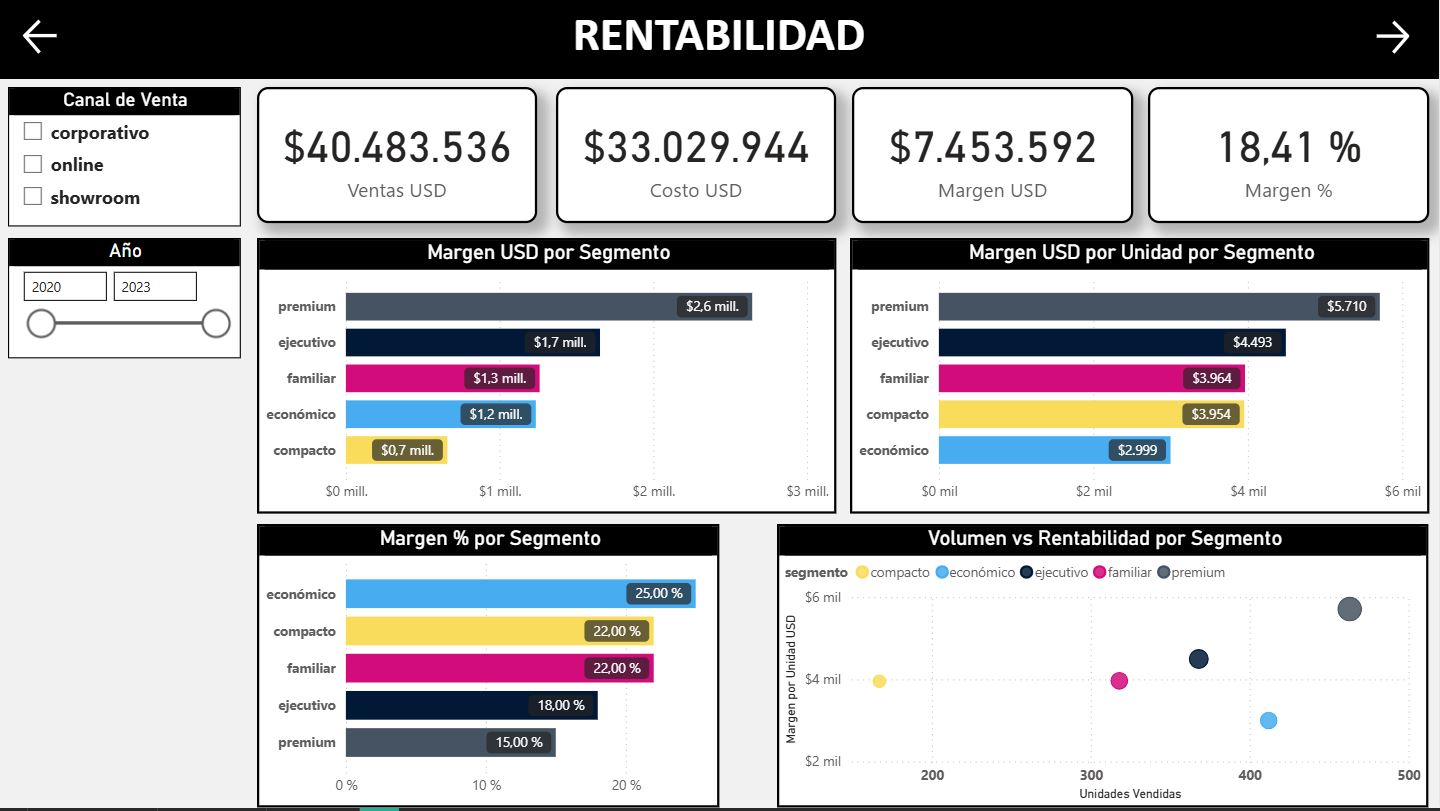

The dashboard page shown, as its layout file describes it:
{"tool":"powerbi","page":{"name":"Rentabilidad","canvas":[1280,720],"ordinal":2},"visuals":[{"type":"card","fields":{"Values":["_Medidas.Ventas USD"]},"box":[229.1,78.9,249.3,121.3],"z":0},{"type":"card","fields":{"Values":["_Medidas.Costo USD"]},"box":[494.7,78.9,249.3,121.3],"z":1000},{"type":"card","fields":{"Values":["_Medidas.Margen USD"]},"box":[758.4,78.9,250.2,121.3],"z":2000},{"type":"card","fields":{"Values":["_Medidas.Margen %"]},"box":[1021.1,78.9,250.2,121.3],"z":3000},{"type":"clusteredBarChart","title":"Margen USD por Segmento","fields":{"Category":["dim_segmento.segmento"],"Y":["_Medidas.Margen USD"]},"box":[229.1,213.7,514.9,245.4],"z":4000},{"type":"clusteredBarChart","title":"Margen USD por Unidad por Segmento","fields":{"Category":["dim_segmento.segmento"],"Y":["_Medidas.Margen por Unidad USD"]},"box":[756.5,213.7,514.9,245.4],"z":5000},{"type":"scatterChart","title":"Volumen vs Rentabilidad por Segmento","fields":{"X":["_Medidas.Unidades Vendidas"],"Y":["_Medidas.Margen por Unidad USD"],"Size":["_Medidas.Margen USD"],"Series":["dim_segmento.segmento"]},"box":[692,467.7,579.4,252.2],"z":6000},{"type":"clusteredBarChart","title":"Margen % por Segmento","fields":{"Category":["dim_segmento.segmento"],"Y":["_Medidas.Margen %"]},"box":[229.1,467.7,410.9,252.2],"z":7000},{"type":"slicer","title":"Año","fields":{"Values":["Calendario.Año"]},"box":[7.7,213.7,206.9,106.8],"z":8000},{"type":"slicer","title":"Canal de Venta","fields":{"Values":["dim_canal_venta.canal_venta"]},"box":[7.7,78.9,206.9,124.2],"z":9000},{"type":"textbox","box":[0,0,1280,72],"z":10000},{"type":"actionButton","box":[17.3,14.4,42.3,40.4],"z":10001},{"type":"actionButton","box":[1218.4,15.4,44.3,39.5],"z":10002}]}

Visuals, with their boxes in screenshot pixels (x1, y1, x2, y2), scaled from the page's 1280x720 canvas onto the 1440x811 screenshot:
card - _Medidas.Ventas USD: 258,89,538,226
card - _Medidas.Costo USD: 557,89,837,226
card - _Medidas.Margen USD: 853,89,1135,226
card - _Medidas.Margen %: 1149,89,1430,226
"Margen USD por Segmento" clusteredBarChart: 258,241,837,517
"Margen USD por Unidad por Segmento" clusteredBarChart: 851,241,1430,517
"Volumen vs Rentabilidad por Segmento" scatterChart: 778,527,1430,810
"Margen % por Segmento" clusteredBarChart: 258,527,720,810
"Año" slicer: 9,241,241,361
"Canal de Venta" slicer: 9,89,241,229
textbox: 0,0,1439,81
actionButton: 19,16,67,62
actionButton: 1371,17,1421,62
